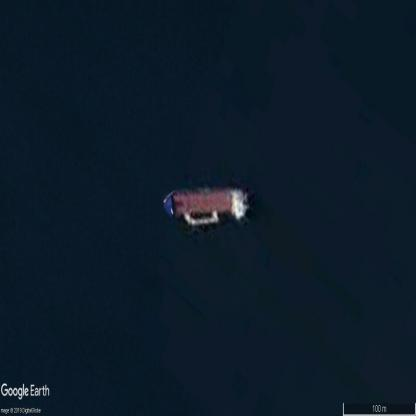ship: (162, 185, 249, 222)
